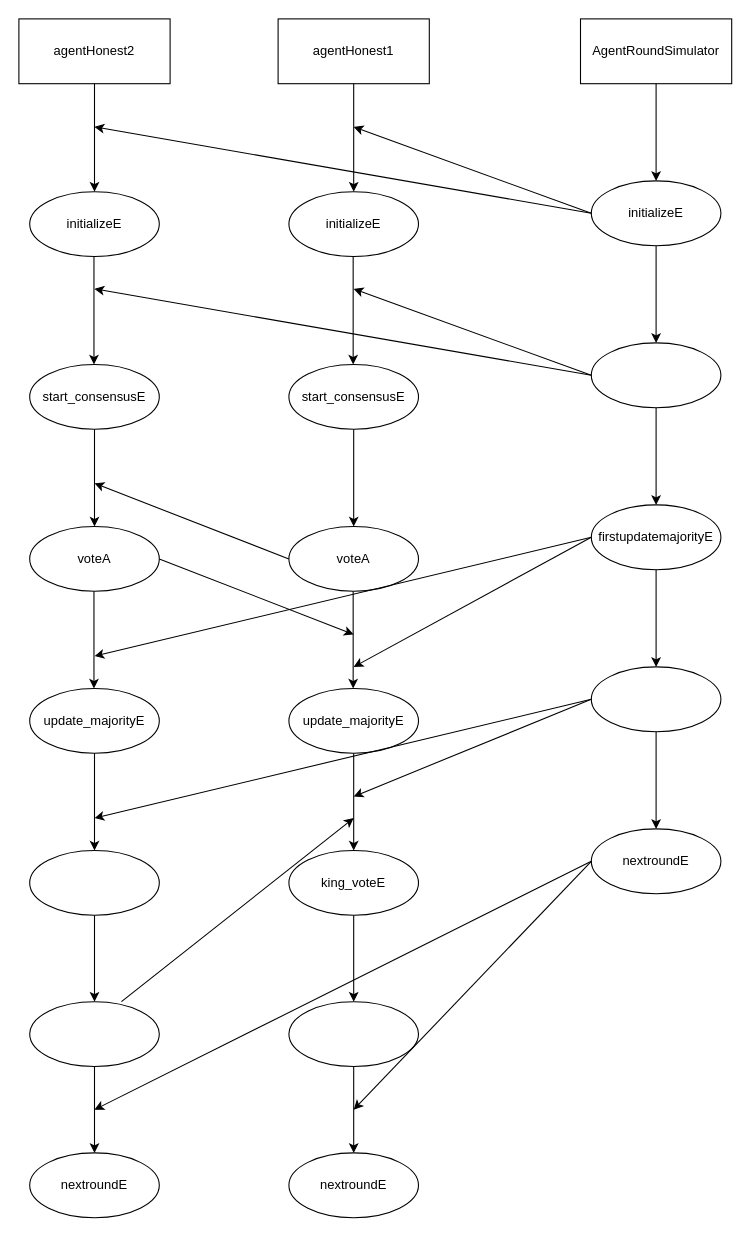
Some shapes in this 751 by 1237 pixel diagram are drawn without their labels. The centre of each missing label's shape, as x and y in pixels:
firstbroadcastE: [655,375]
king_broadcastA: [94,1033]
king_broadcastE: [94,882]
king_voteA: [353,1033]
kingbroadcastE: [655,699]
